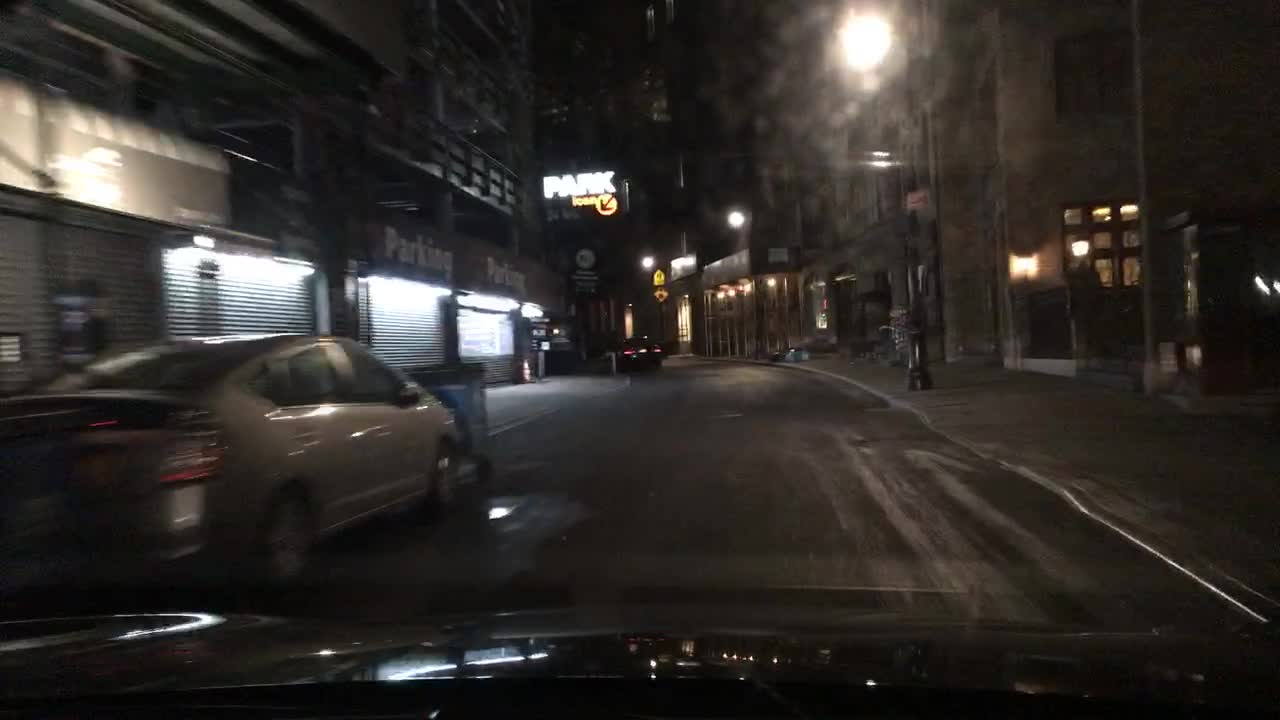car: (0, 331, 463, 605), (618, 334, 663, 371)
traffic sign: (908, 191, 929, 207), (652, 269, 665, 286), (654, 287, 667, 302)
